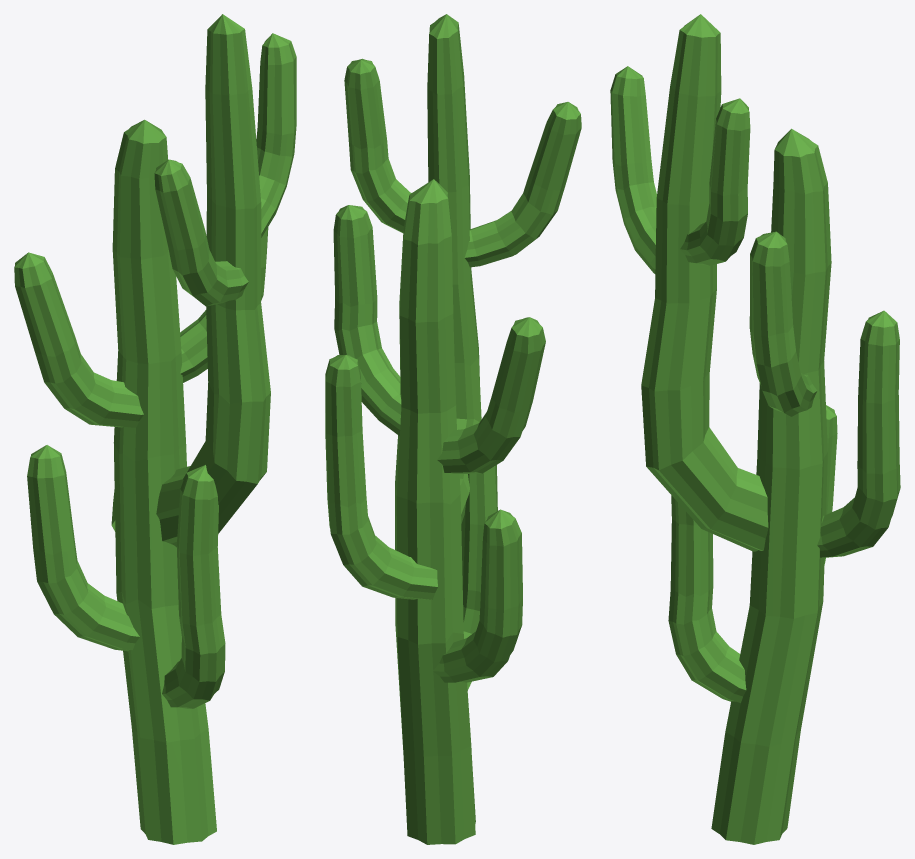
The model's file is cactus_001.glb.
3 renders of one model, left to right at view 1: azimuth 30°, elevation 25°; view 2: azimuth 150°, elevation 25°; view 3: azimuth 270°, elevation 25°, orthographic. The views are drawn at different scales.
Parts seen in each view (by area): view 1: cactus_001; view 2: cactus_001; view 3: cactus_001.
Boxes of the visible parts, box(x1,y1,x2,y2) form: cactus_001: box(14, 14, 296, 844); cactus_001: box(325, 14, 581, 844); cactus_001: box(610, 14, 900, 844).
Bounding box in the file's own units: 0.9906 × 3.27 × 1.04.
1 material, 1 textured.
